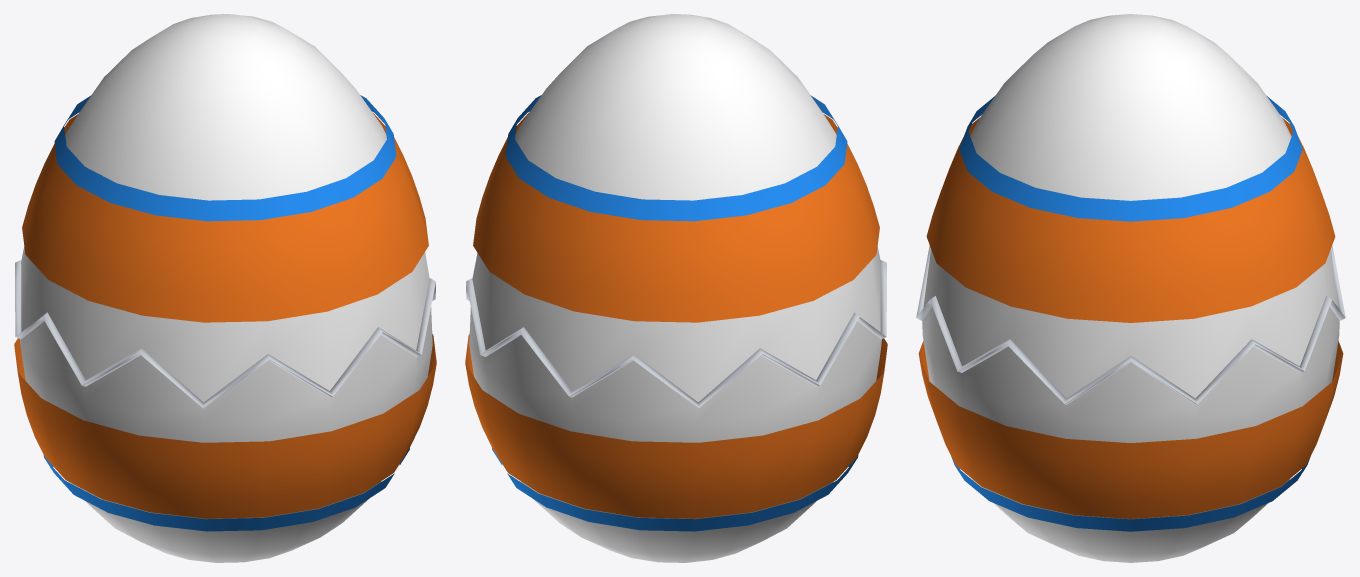
File: oeuf_stade.fbx
3 views of the same model, side by side, from view 1: azimuth 30°, elevation 25°; view 2: azimuth 150°, elevation 25°; view 3: azimuth 270°, elevation 25° (orthographic).
Parts seen in each view (by area): view 1: oeuf_stade_Haut, oeuf_stade_Orange_Haut, oeuf_stade_Bas, oeuf_stade_Orange_Bas, oeuf_stade_Bleu_Haut, oeuf_stade_Bleu_Bas, oeuf_stade_Fente_Haut, oeuf_stade_Fente_Bas; view 2: oeuf_stade_Haut, oeuf_stade_Orange_Haut, oeuf_stade_Bas, oeuf_stade_Orange_Bas, oeuf_stade_Bleu_Haut, oeuf_stade_Bleu_Bas, oeuf_stade_Fente_Haut, oeuf_stade_Fente_Bas; view 3: oeuf_stade_Haut, oeuf_stade_Orange_Haut, oeuf_stade_Bas, oeuf_stade_Orange_Bas, oeuf_stade_Bleu_Haut, oeuf_stade_Bleu_Bas, oeuf_stade_Fente_Haut, oeuf_stade_Fente_Bas.
Boxes of the visible parts, x1,y1,x2,y2 form: oeuf_stade_Haut: [21, 14, 429, 402]; oeuf_stade_Orange_Haut: [22, 113, 428, 322]; oeuf_stade_Bas: [20, 307, 432, 562]; oeuf_stade_Orange_Bas: [14, 334, 436, 518]; oeuf_stade_Bleu_Haut: [54, 95, 396, 221]; oeuf_stade_Bleu_Bas: [43, 448, 409, 531]; oeuf_stade_Fente_Haut: [15, 260, 435, 407]; oeuf_stade_Fente_Bas: [15, 283, 435, 408]; oeuf_stade_Haut: [472, 14, 880, 402]; oeuf_stade_Orange_Haut: [473, 113, 879, 322]; oeuf_stade_Bas: [469, 307, 881, 562]; oeuf_stade_Orange_Bas: [465, 334, 887, 518]; oeuf_stade_Bleu_Haut: [505, 95, 847, 221]; oeuf_stade_Bleu_Bas: [492, 448, 858, 531]; oeuf_stade_Fente_Haut: [466, 260, 886, 407]; oeuf_stade_Fente_Bas: [466, 283, 886, 408]; oeuf_stade_Haut: [923, 14, 1338, 398]; oeuf_stade_Orange_Haut: [926, 117, 1335, 322]; oeuf_stade_Bas: [922, 306, 1339, 562]; oeuf_stade_Orange_Bas: [918, 341, 1343, 518]; oeuf_stade_Bleu_Haut: [959, 96, 1302, 221]; oeuf_stade_Bleu_Bas: [951, 456, 1310, 531]; oeuf_stade_Fente_Haut: [916, 245, 1345, 404]; oeuf_stade_Fente_Bas: [916, 300, 1345, 404].
Size of the model in its own units: 1.85 by 2.5 by 1.87.
